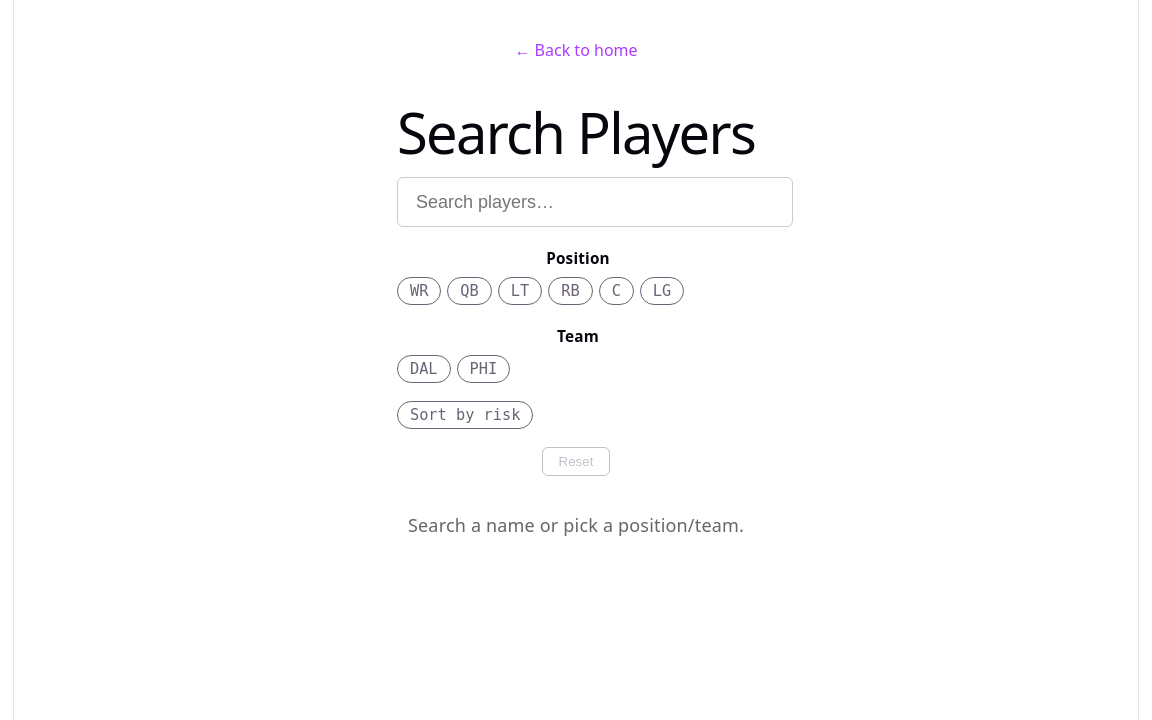
Test: a query with no matches says No players found
Type "zz" into the dropdown named "Search players by name" at (595, 202), box 397,177 -> 793,227
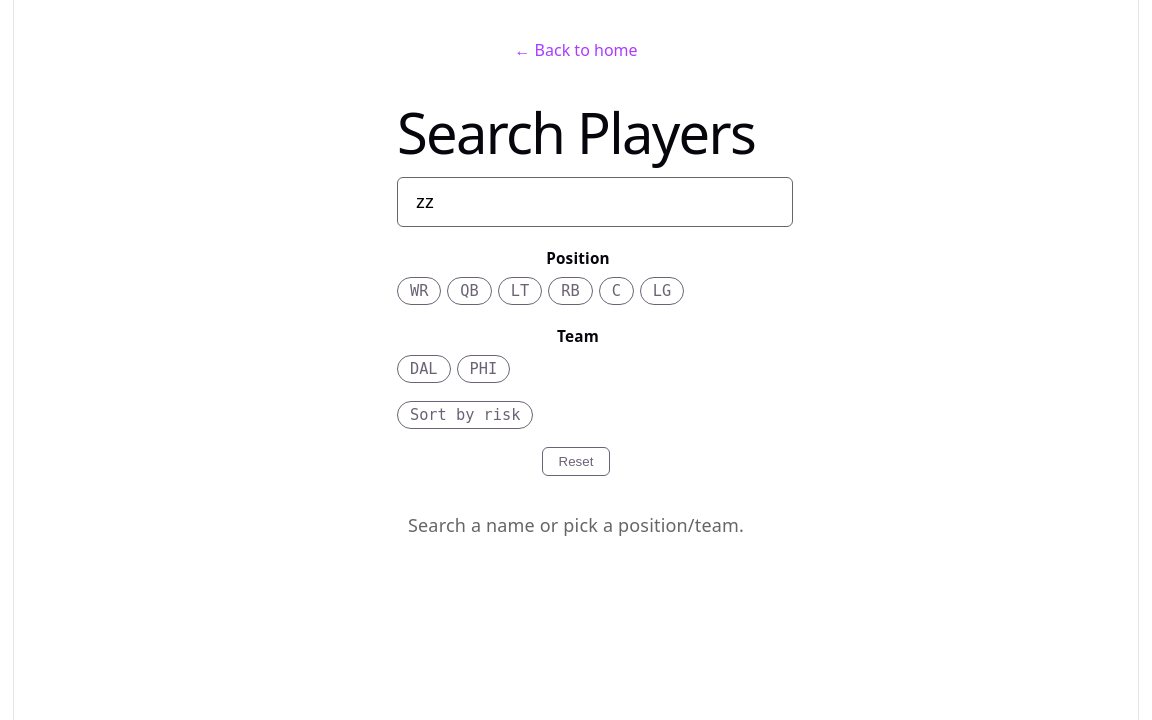
Press Enter
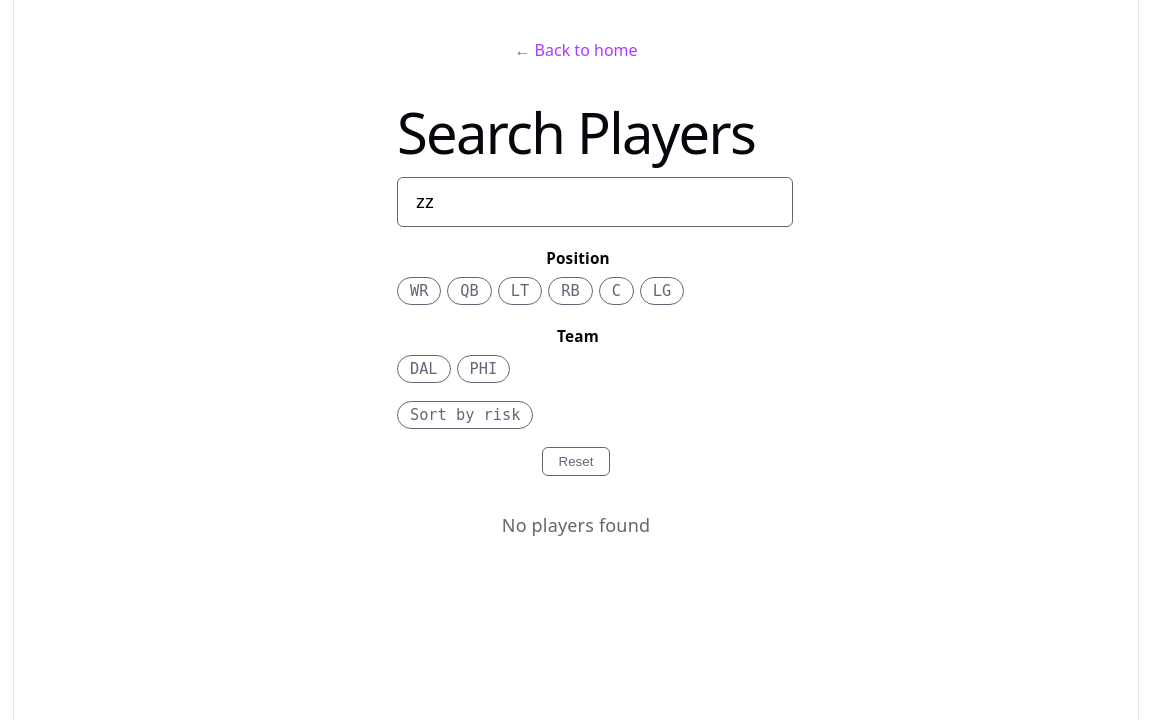
Result: the text "No players found" is shown at 502,513 -> 650,537
